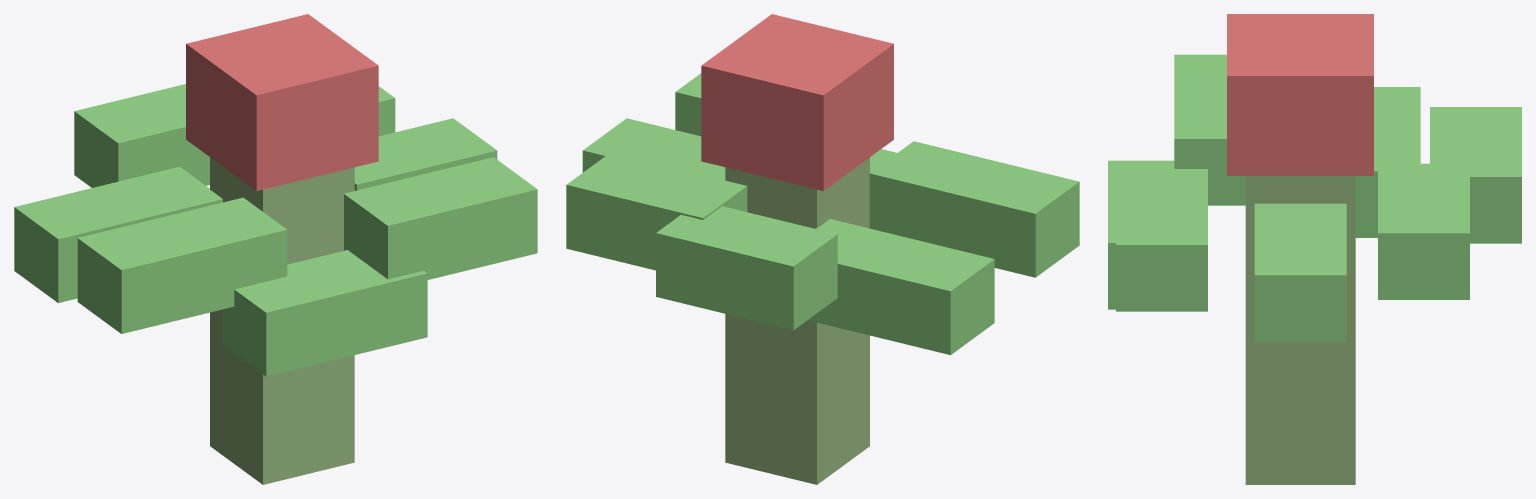
The model's file is Prop_Herb_AMF_Guardthistle_V5.glb.
3 views of the same model, side by side, from view 1: azimuth 30°, elevation 25°; view 2: azimuth 150°, elevation 25°; view 3: azimuth 270°, elevation 25° (orthographic). The views are drawn at different scales.
Visible parts, largest first — view 1: Prop_Herb_AMF_Guardthistle_V5; view 2: Prop_Herb_AMF_Guardthistle_V5; view 3: Prop_Herb_AMF_Guardthistle_V5.
Boxes of the visible parts, left/top/right/bottom form: Prop_Herb_AMF_Guardthistle_V5: left=14, top=14, right=537, bottom=484; Prop_Herb_AMF_Guardthistle_V5: left=566, top=14, right=1079, bottom=484; Prop_Herb_AMF_Guardthistle_V5: left=1108, top=14, right=1521, bottom=484.
Size of the model in its own units: 0.2713 by 0.2502 by 0.2252.
